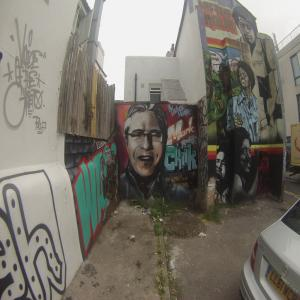Vehicle-registration-plate: (265, 265, 300, 300)
